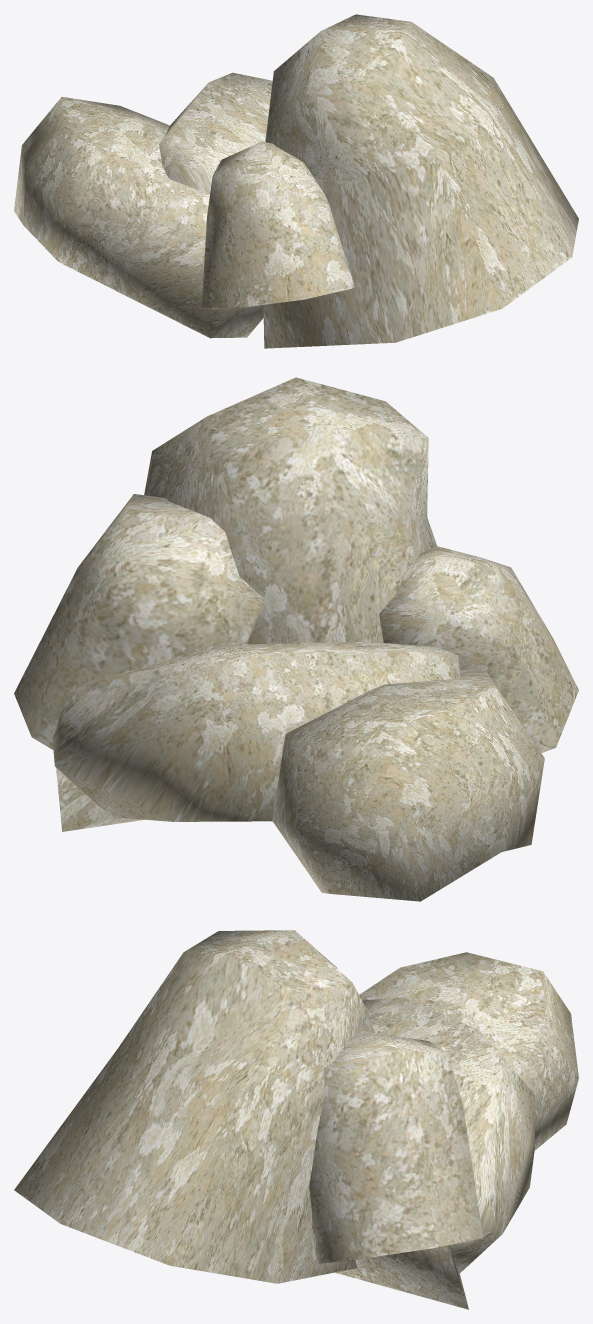
Rendered from rock_formation_a3_l1.fbx.
3 views of the same model, one above another, from view 1: azimuth 30°, elevation 25°; view 2: azimuth 150°, elevation 25°; view 3: azimuth 270°, elevation 25° (orthographic). The views are drawn at different scales.
Parts seen in each view (by area): view 1: mesh_node; view 2: mesh_node; view 3: mesh_node.
Boxes of the visible parts, x1,y1,x2,y2 form: mesh_node: (14,14,578,348); mesh_node: (14,377,578,901); mesh_node: (14,930,578,1309).
Size of the model in its own units: 9.51 by 6.48 by 9.85.
